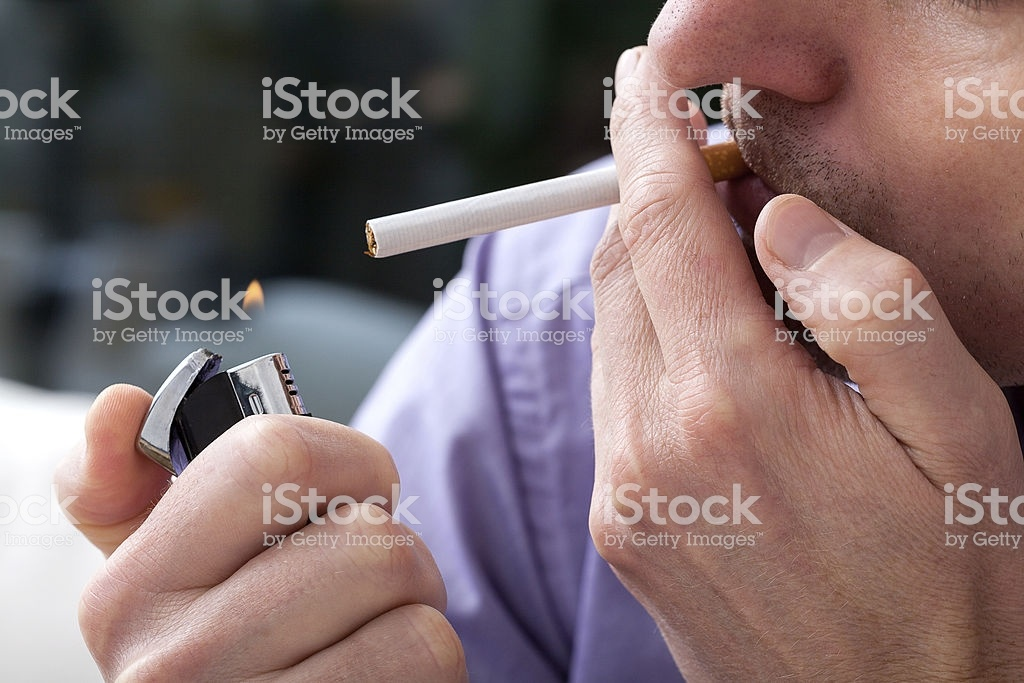sigaretta: (337, 137, 745, 254)
